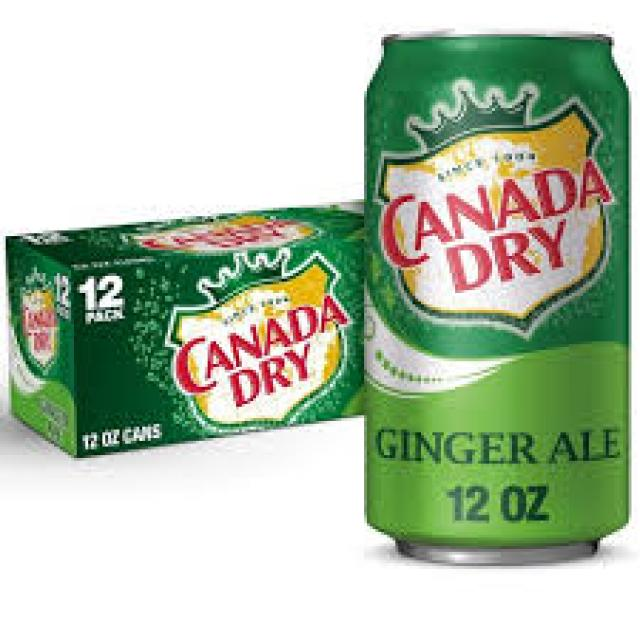Cans: (358, 17, 640, 566)
